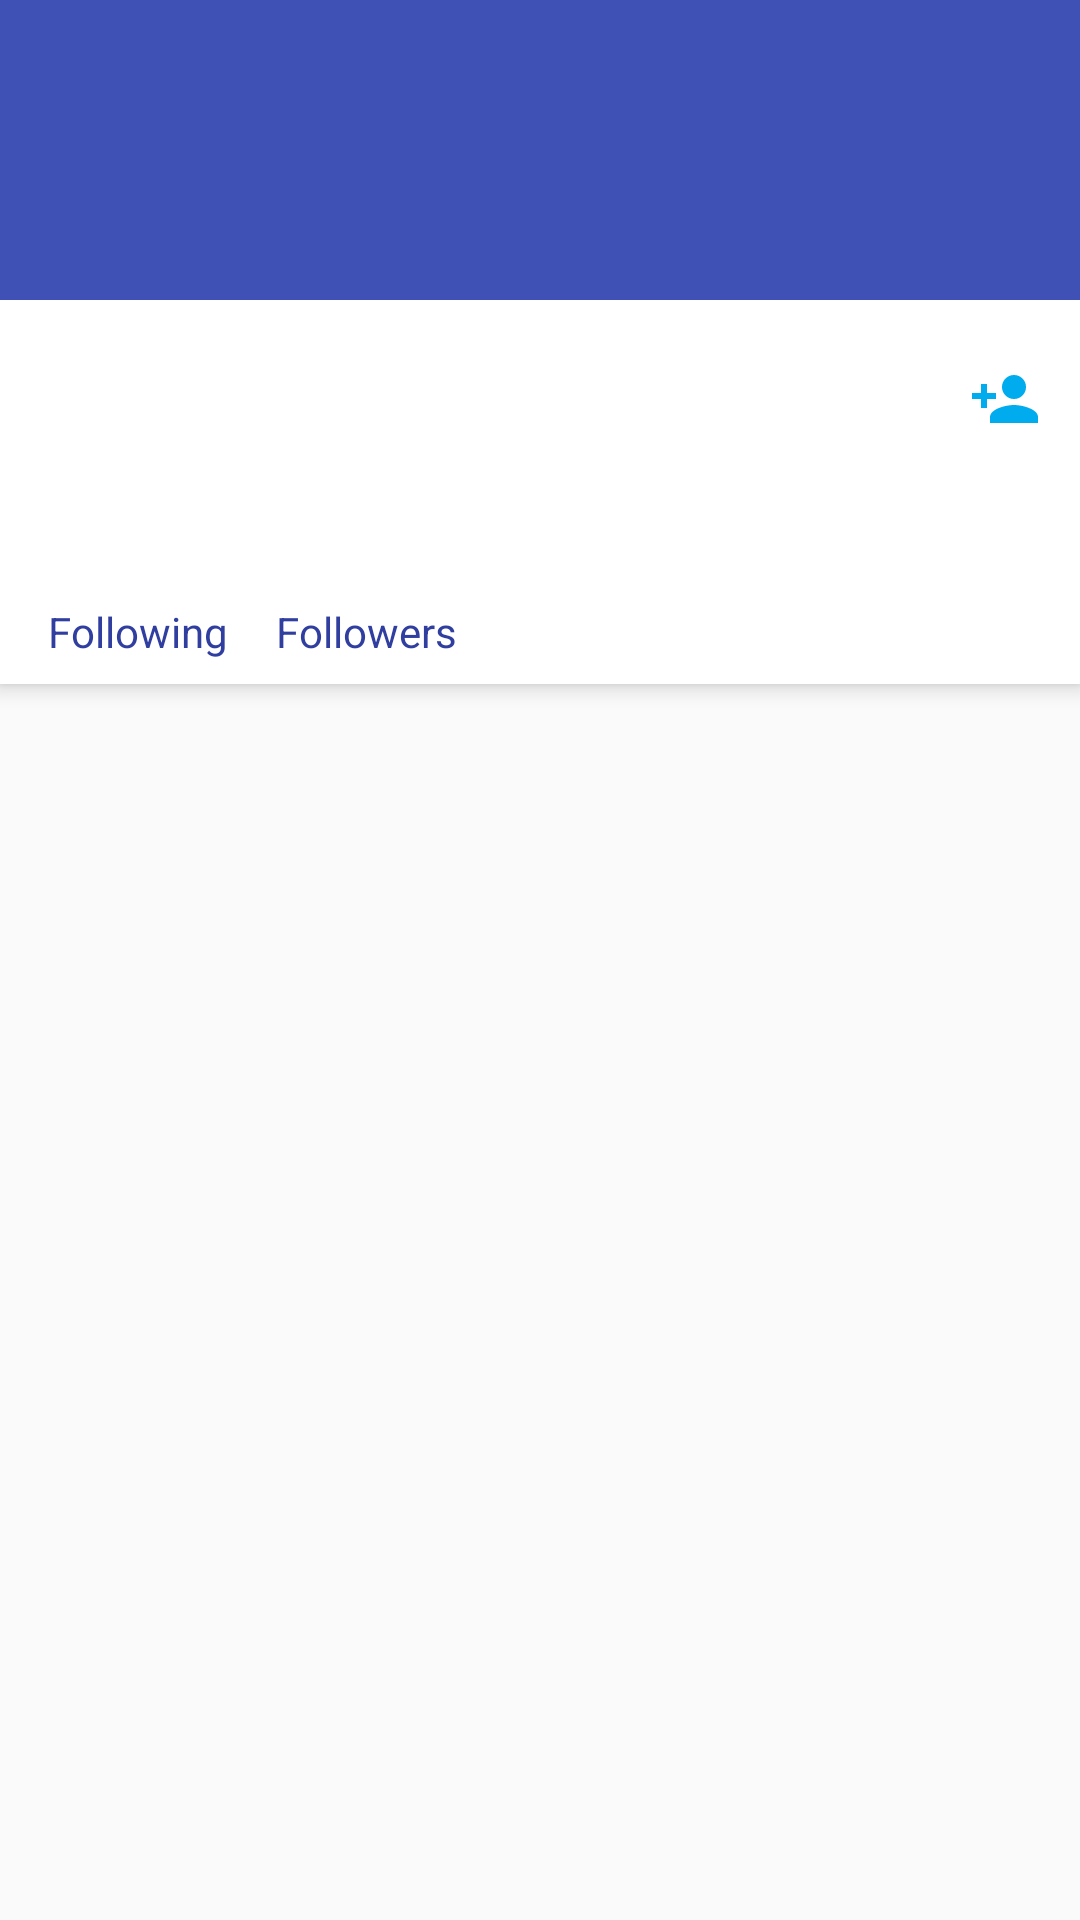

Point at icon controls on the screen. Image size 1080px×1920px, points as (x,y).
follow: (1005,399)
